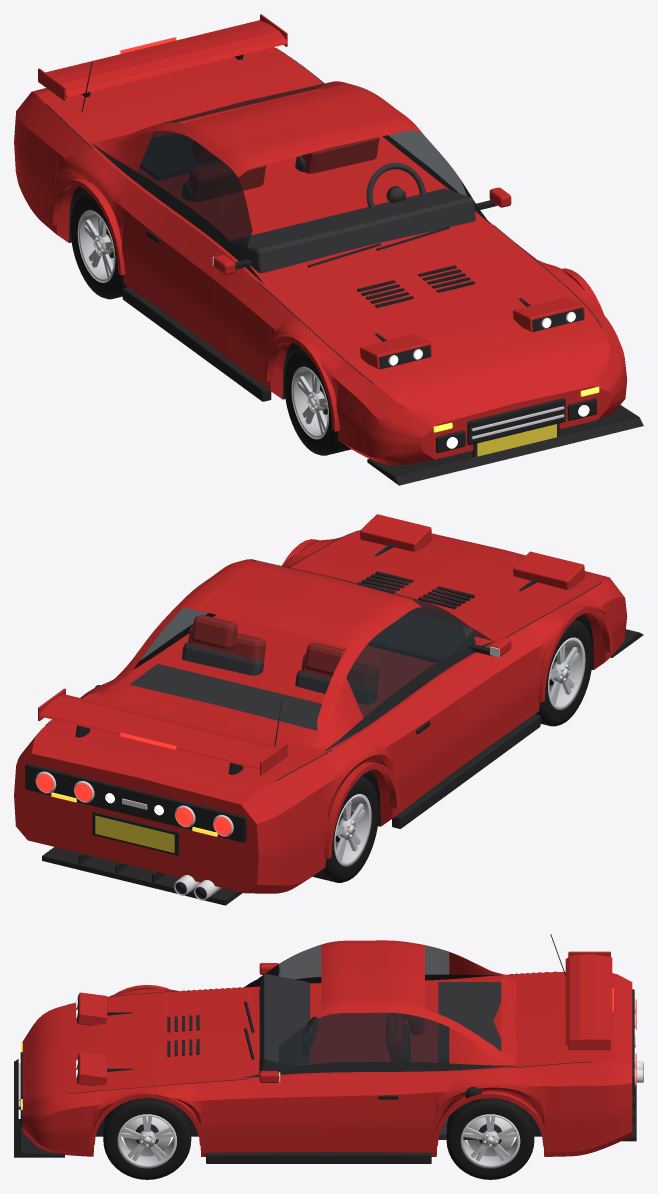
3 renders of one model, top to bottom at view 1: azimuth 30°, elevation 25°; view 2: azimuth 150°, elevation 25°; view 3: azimuth 270°, elevation 25°, orthographic. The views are drawn at different scales.
Visible parts, largest first — view 1: hood, nose, tub, cabin_roof, deck_lid, door_R, cabin_glass, dash, quarter_R, spoiler, fender_R, splitter (+16 smaller); view 2: tail, cabin_roof, hood, door_R, cabin_glass, quarter_R, tub, spoiler, fender_R, parcel_shelf, tail_garnish, deck_lid (+19 smaller); view 3: hood, door_L, cabin_roof, cabin_glass, quarter_L, tub, fender_L, nose, wheel_FL, wheel_RL, tail, deck_lid (+12 smaller).
Part boxes in pixels (left/top/right/bottom): hood: left=259, top=225, right=601, bottom=383; nose: left=356, top=328, right=627, bottom=465; tub: left=93, top=131, right=492, bottom=282; cabin_roof: left=93, top=81, right=421, bottom=177; deck_lid: left=47, top=48, right=324, bottom=148; door_R: left=129, top=194, right=257, bottom=368; cabin_glass: left=137, top=82, right=466, bottom=257; dash: left=230, top=188, right=475, bottom=273; quarter_R: left=28, top=105, right=146, bottom=288; spoiler: left=45, top=20, right=287, bottom=97; fender_R: left=240, top=283, right=373, bottom=458; splitter: left=367, top=405, right=643, bottom=485; tail: left=14, top=725, right=293, bottom=893; cabin_roof: left=93, top=559, right=421, bottom=750; hood: left=290, top=530, right=600, bottom=644; door_R: left=384, top=647, right=510, bottom=812; cabin_glass: left=140, top=560, right=491, bottom=717; quarter_R: left=276, top=718, right=401, bottom=892; tub: left=93, top=614, right=490, bottom=749; spoiler: left=38, top=694, right=279, bottom=769; fender_R: left=502, top=582, right=619, bottom=731; parcel_shelf: left=129, top=664, right=321, bottom=730; tail_garnish: left=25, top=763, right=246, bottom=842; deck_lid: left=46, top=692, right=330, bottom=780; hood: left=68, top=987, right=247, bottom=1093; door_L: left=248, top=1073, right=424, bottom=1152; cabin_roof: left=321, top=940, right=516, bottom=1065; cabin_glass: left=278, top=945, right=449, bottom=1069; quarter_L: left=425, top=1062, right=592, bottom=1156; tub: left=248, top=975, right=510, bottom=1079; fender_L: left=68, top=1079, right=247, bottom=1156; nose: left=22, top=1004, right=68, bottom=1155; wheel_FL: left=103, top=1098, right=191, bottom=1179; wheel_RL: left=446, top=1091, right=534, bottom=1179; tail: left=592, top=973, right=632, bottom=1152; deck_lid: left=510, top=971, right=592, bottom=1067.
Bounding box in the file's own units: 1.88 × 1.25 × 4.44.
